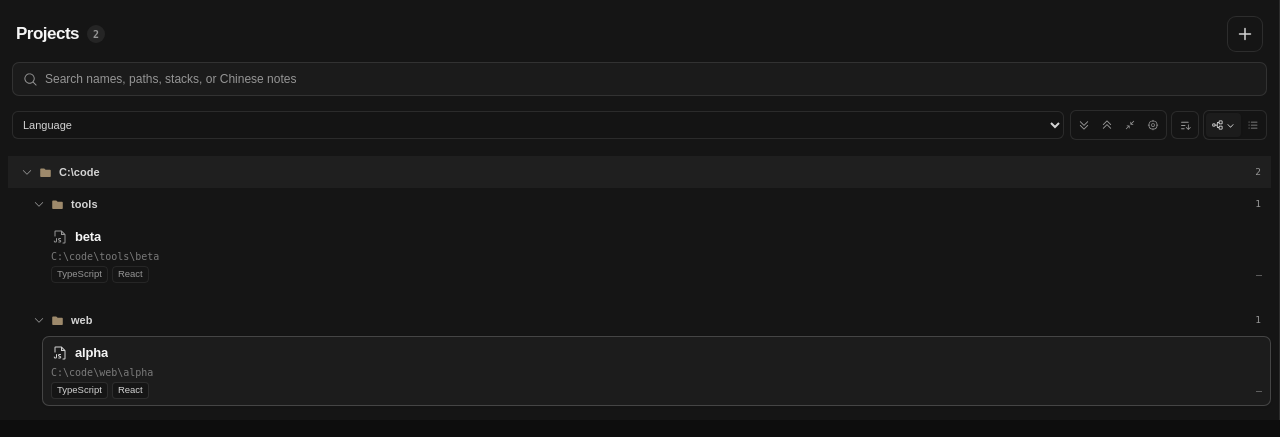
Test: ProjectList tree › collapses every path except the selected project's ancestors
expect the list item "alpha" is shown: met, box [8,336,1271,406]
Click the button named "Collapse to selected project" at (1130, 125), box [1119,113,1141,137]
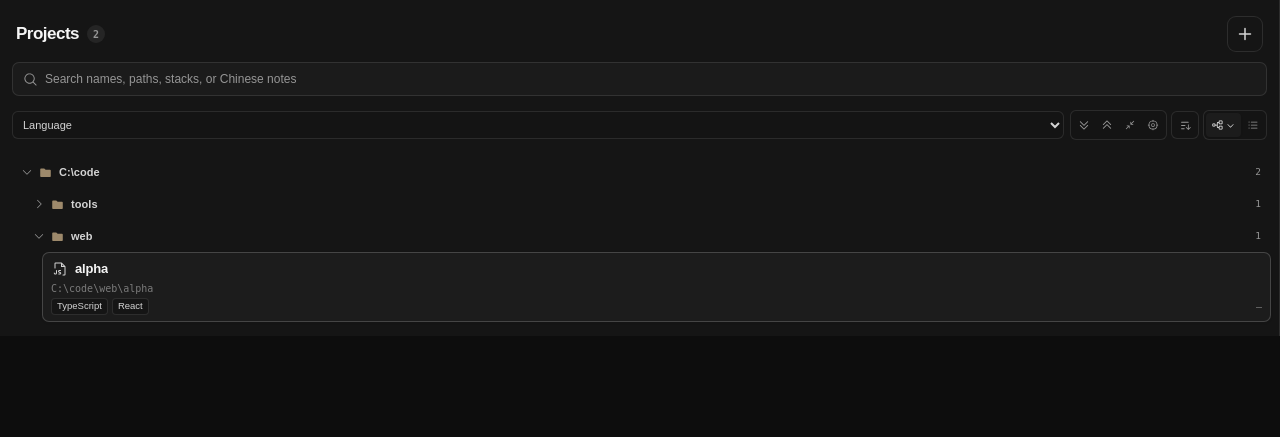
expect the list item "alpha" is shown: met, box [8,252,1271,322]
expect the button "beta" is gone: met
